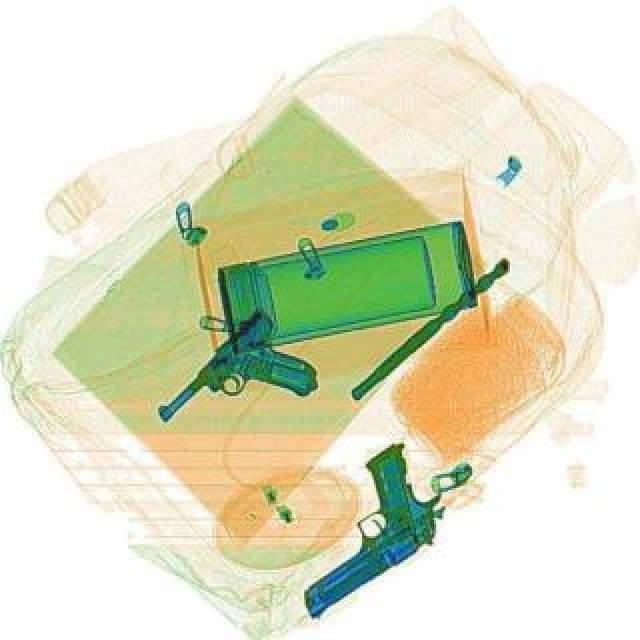gun: (248, 436, 464, 616), (150, 302, 336, 474)
